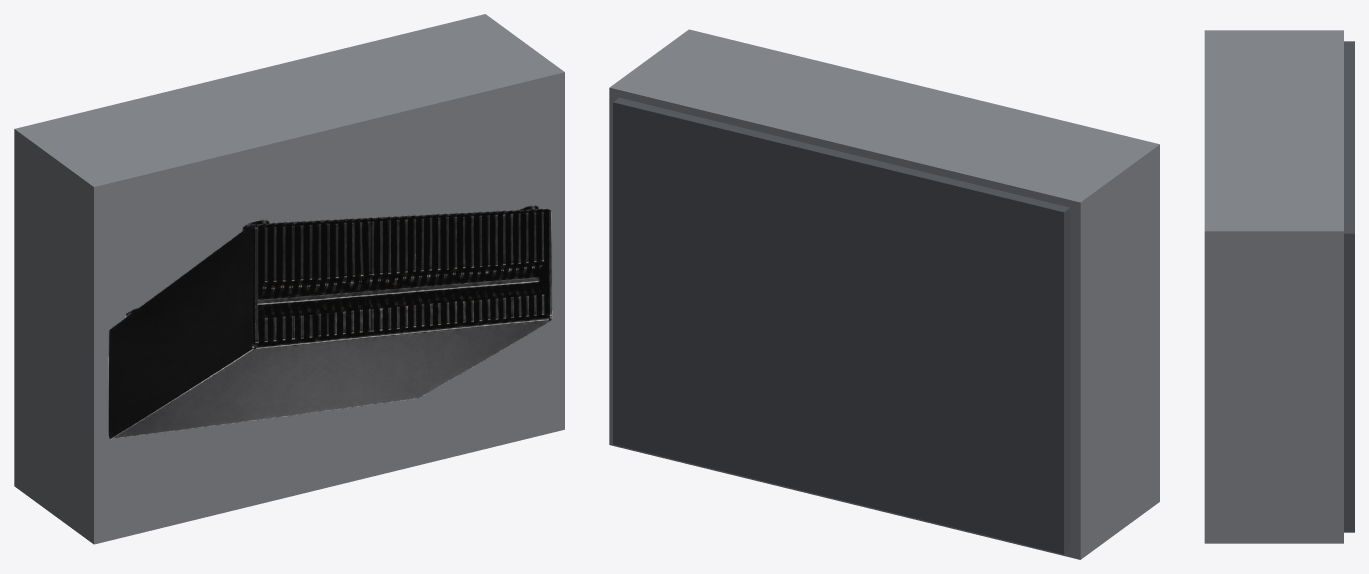
Rendered from gb10-ai-workstation.glb.
3 renders of one model, left to right at view 1: azimuth 30°, elevation 25°; view 2: azimuth 150°, elevation 25°; view 3: azimuth 270°, elevation 25°, orthographic. The views are drawn at different scales.
Parts seen in each view (by area): view 1: body, product_image; view 2: rear, body; view 3: body, rear.
Part boxes in pixels (x1=…): body: x1=14, y1=14, x2=564, y2=544; product_image: x1=108, y1=205, x2=552, y2=439; rear: x1=613, y1=97, x2=1070, y2=554; body: x1=609, y1=29, x2=1159, y2=559; body: x1=1204, y1=30, x2=1343, y2=543; rear: x1=1344, y1=41, x2=1354, y2=532.
Size of the model in its own units: 2 by 1.45 by 0.597.
1 material, 1 textured.
